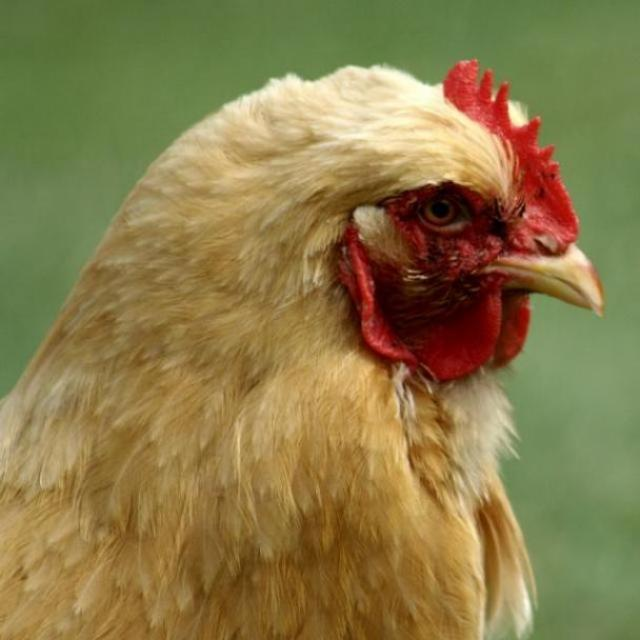Chicken: (0, 35, 613, 626)
